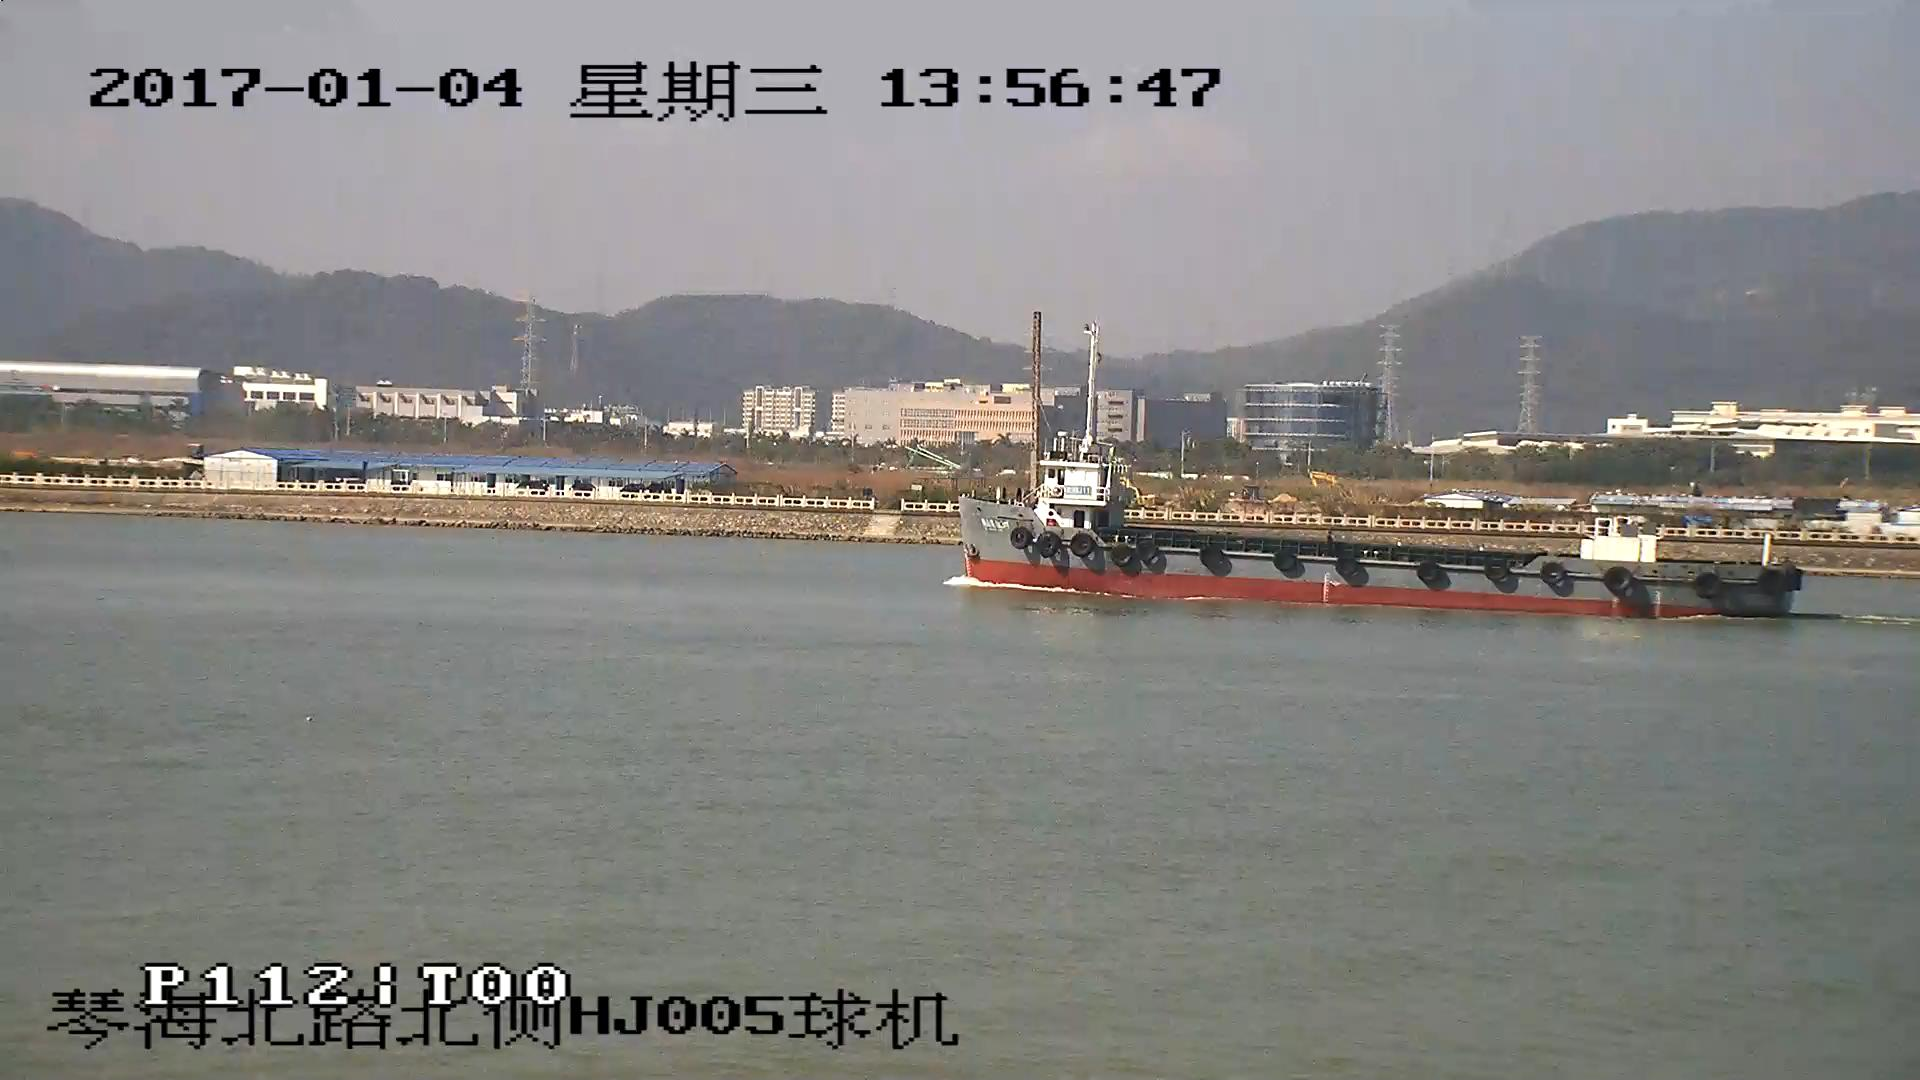general cargo ship: (958, 446, 1803, 626)
